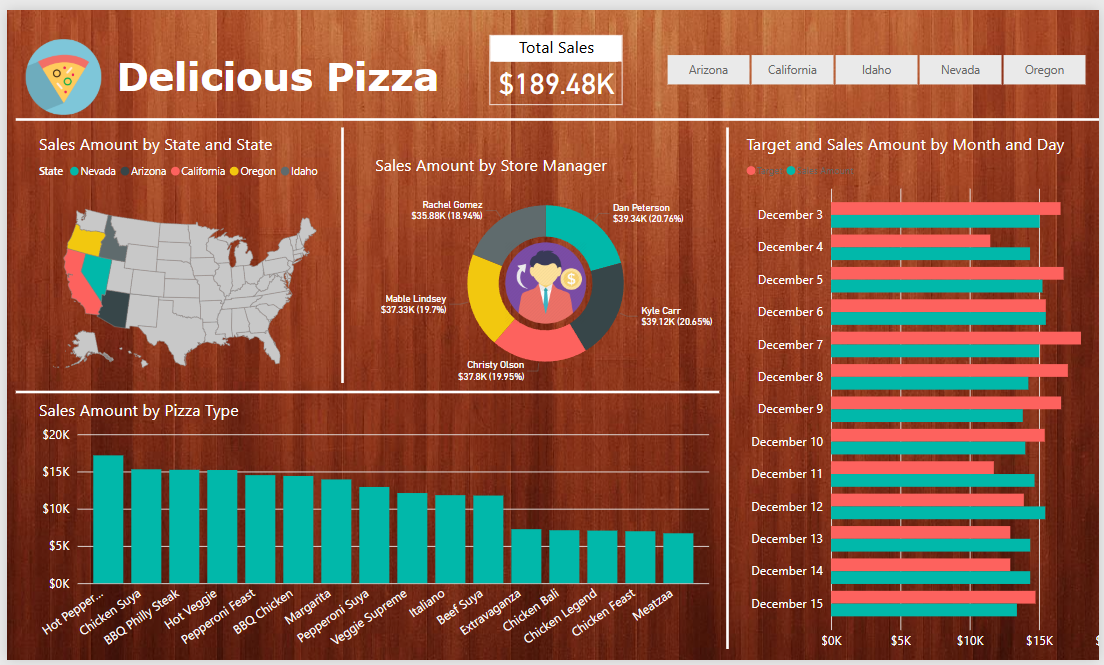

The page's visual inventory and layout, read from the dashboard file:
{"tool":"powerbi","page":{"name":"Delicious Pizza Sales Report","canvas":[1280,720],"ordinal":0},"visuals":[{"type":"image","box":[8,0,112,96],"z":0},{"type":"shapeMap","fields":{"Category":["Branch Data.State"],"Value":["Sales.Sales Amount"],"Series":["Branch Data.State"]},"box":[32,112,344,304],"z":1000},{"type":"textbox","box":[120,16,408,80],"z":2000},{"type":"clusteredBarChart","fields":{"Category":["Daily Target.Day.Variation.Date Hierarchy.Month","Daily Target.Day.Variation.Date Hierarchy.Day"],"Y":["Daily Target.Target","Sales.Sales Amount"]},"box":[840,112,440,600],"z":3000},{"type":"clusteredColumnChart","fields":{"Y":["Sales.Sales Amount"],"Category":["Sales.Pizza Type"]},"box":[32,416,776,296],"z":4000},{"type":"donutChart","fields":{"Category":["Branch Data.Store Manager"],"Y":["Sales.Sales Amount"]},"box":[416,136,400,272],"z":5000},{"type":"slicer","fields":{"Values":["Branch Data.State"]},"box":[728,16,528,48],"z":6000},{"type":"image","box":[536,232,160,104],"z":7000},{"type":"card","title":"Total Sales","fields":{"Values":["Sales.Sales Amount"]},"box":[552,0,152,80],"z":8000},{"type":"basicShape","box":[792,96,64,616],"z":9000},{"type":"basicShape","box":[352,96,64,312],"z":10000},{"type":"basicShape","box":[0,48,1280,96],"z":11000},{"type":"basicShape","box":[0,360,824,96],"z":12000}]}

Visuals, with their boxes in screenshot pixels (x1, y1, x2, y2):
image: x1=0, y1=0, x2=74, y2=76
shapeMap - Branch Data.State x Sales.Sales Amount: x1=0, y1=90, x2=300, y2=358
textbox: x1=74, y1=5, x2=434, y2=76
clusteredBarChart - Daily Target.Day.Variation.Date Hierarchy.Month x Daily Target.Day.Variation.Date Hierarchy.Day: x1=709, y1=90, x2=1097, y2=619
clusteredColumnChart - Sales.Sales Amount x Sales.Pizza Type: x1=0, y1=358, x2=681, y2=619
donutChart - Branch Data.Store Manager x Sales.Sales Amount: x1=335, y1=111, x2=688, y2=351
slicer - Branch Data.State: x1=610, y1=5, x2=1076, y2=48
image: x1=441, y1=196, x2=582, y2=288
"Total Sales" card: x1=455, y1=0, x2=589, y2=62
basicShape: x1=667, y1=76, x2=723, y2=619
basicShape: x1=279, y1=76, x2=335, y2=351
basicShape: x1=0, y1=34, x2=1097, y2=118
basicShape: x1=0, y1=309, x2=695, y2=393
